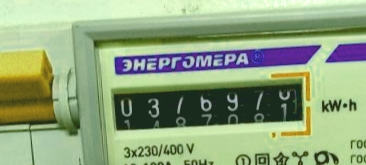0: (118, 93, 133, 116)
1: (276, 100, 290, 120)
3: (145, 94, 161, 117)
6: (196, 87, 213, 111)
7: (170, 90, 186, 114), (250, 86, 266, 110)
9: (222, 87, 239, 111)
screen: (101, 64, 316, 151)
